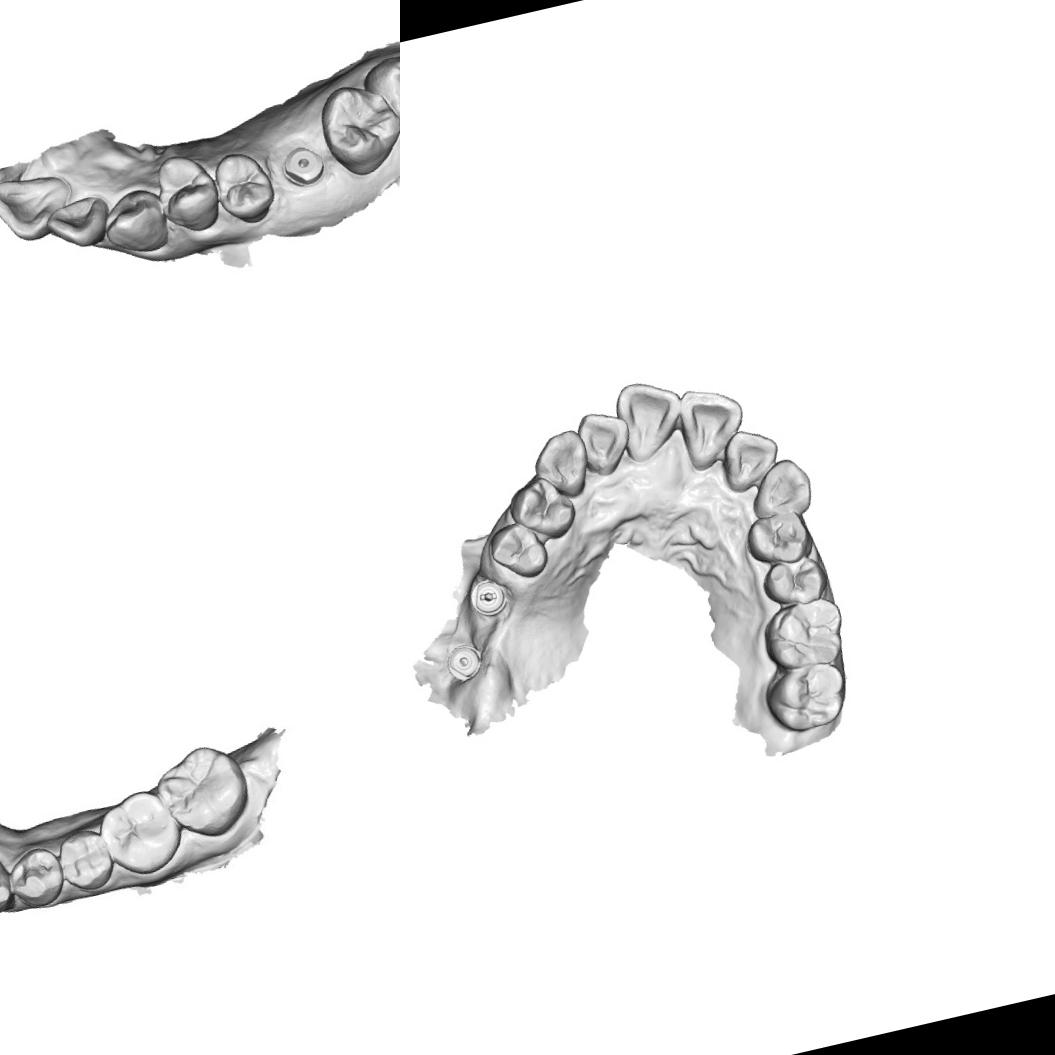canine: (95, 184, 174, 262), (527, 424, 597, 506), (742, 452, 819, 524), (0, 858, 20, 922)
implant: (279, 138, 332, 190), (441, 638, 486, 686)
implant_minus: (462, 568, 514, 622)
incisor: (669, 376, 755, 474), (610, 371, 695, 466), (0, 165, 80, 250), (717, 422, 787, 496), (572, 404, 639, 479), (42, 189, 116, 256)
molar: (150, 735, 258, 846), (311, 74, 400, 183), (92, 780, 185, 882), (754, 592, 853, 678), (758, 654, 854, 737), (358, 44, 400, 147)
premolar: (150, 148, 226, 237), (503, 470, 583, 548), (210, 144, 280, 228), (738, 501, 816, 574), (754, 548, 833, 613), (485, 517, 553, 587), (54, 826, 118, 895), (4, 844, 66, 912)
